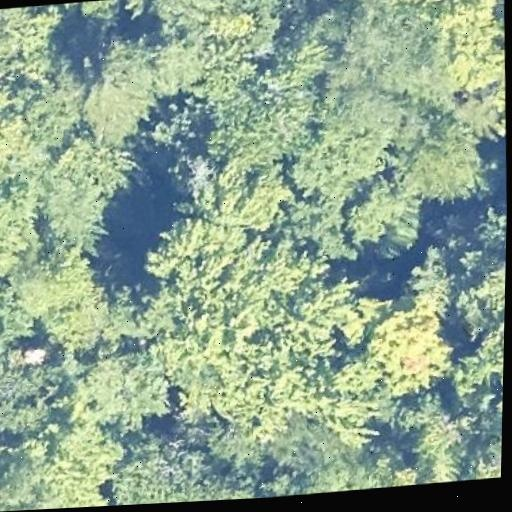tree-top: (132, 198, 399, 456), (318, 2, 460, 152), (69, 22, 222, 149), (200, 35, 327, 161), (104, 418, 257, 506), (13, 240, 126, 359), (171, 140, 293, 242), (41, 129, 138, 257), (265, 401, 379, 497), (62, 346, 179, 435), (282, 117, 394, 209), (401, 111, 502, 209), (439, 0, 508, 143), (425, 210, 507, 326), (359, 293, 450, 397), (3, 56, 87, 155), (337, 172, 431, 257), (398, 382, 468, 485), (448, 323, 504, 448), (0, 334, 60, 445), (0, 178, 47, 286), (121, 0, 220, 51), (0, 4, 64, 82), (0, 83, 46, 185), (0, 449, 56, 512), (43, 453, 100, 509), (320, 0, 498, 14), (454, 439, 502, 480)
